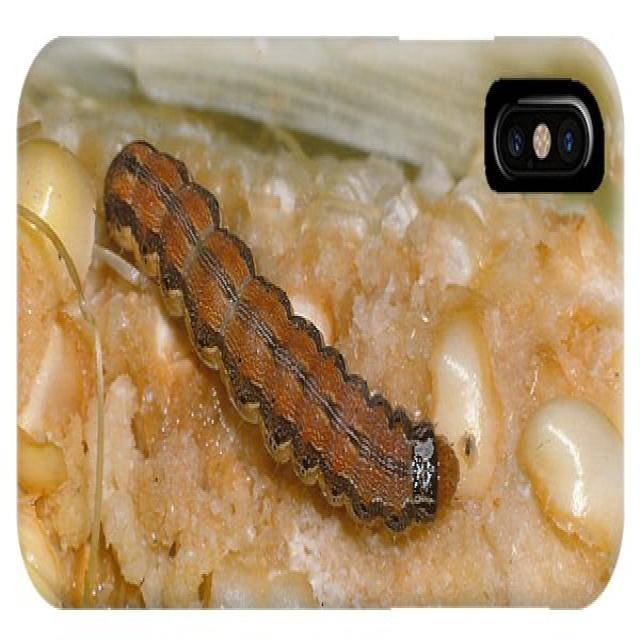Corn-earworm: (104, 133, 467, 534)
